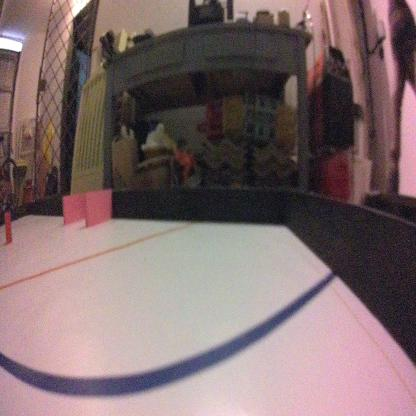magenta: (84, 186, 112, 230), (62, 190, 88, 226)
red: (5, 206, 12, 245)
